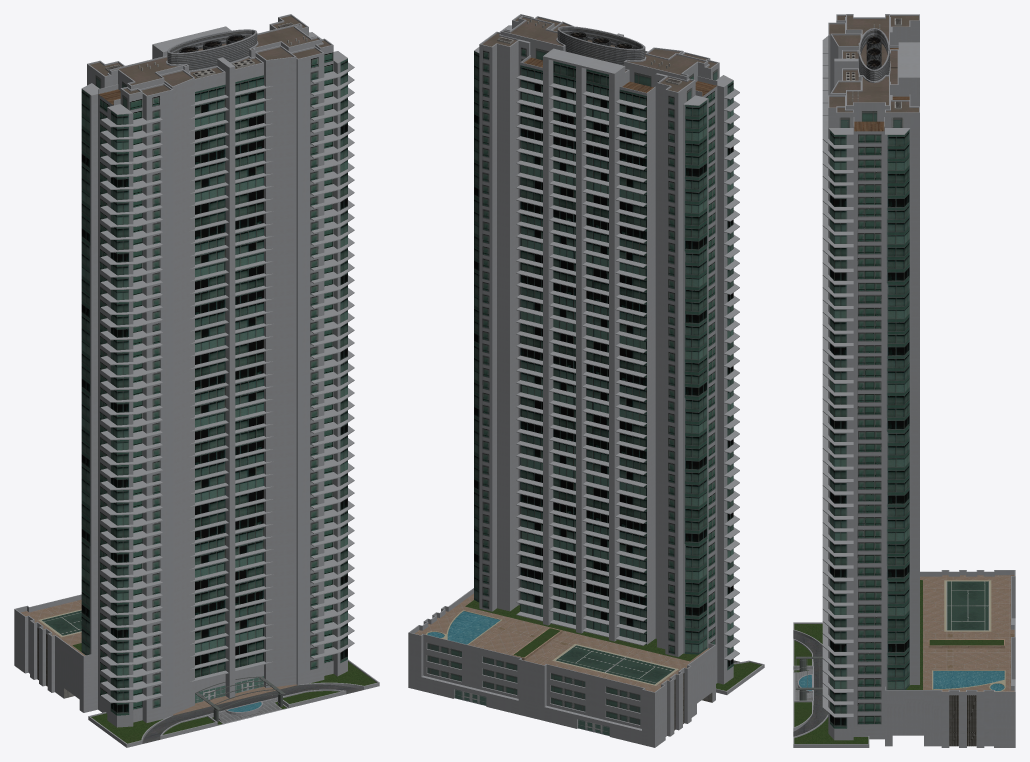
Rendered from miami_style_condominium.glb.
3 views of the same model, side by side, from view 1: azimuth 30°, elevation 25°; view 2: azimuth 150°, elevation 25°; view 3: azimuth 270°, elevation 25° (orthographic). The views are drawn at different scales.
Parts seen in each view (by area): view 1: hirise8; view 2: hirise8; view 3: hirise8.
Boxes of the visible parts, bbox=[...] form: hirise8: bbox=[14, 14, 379, 747]; hirise8: bbox=[408, 14, 764, 747]; hirise8: bbox=[793, 14, 1015, 747].
Size of the model in its own units: 6666 by 16249 by 5130.
Materials: 1 (1 with a texture image).
